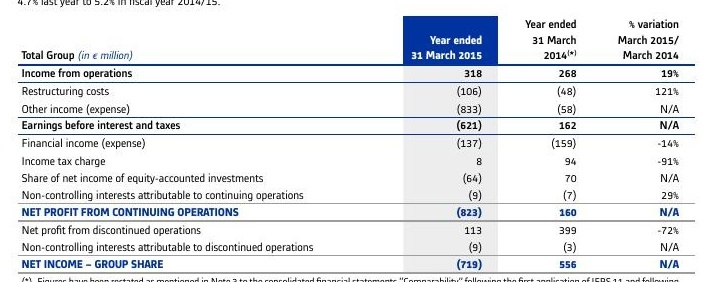table: (0, 0, 703, 282)
